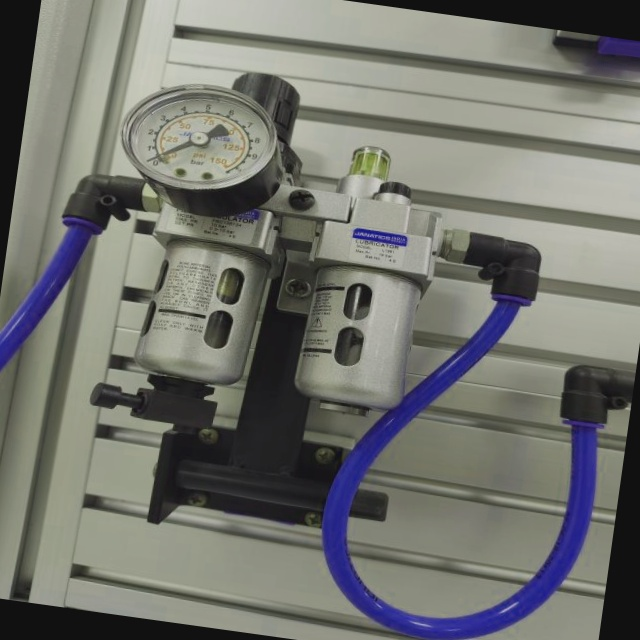FRL unit: (25, 41, 542, 576)
push button: (109, 71, 296, 226)
